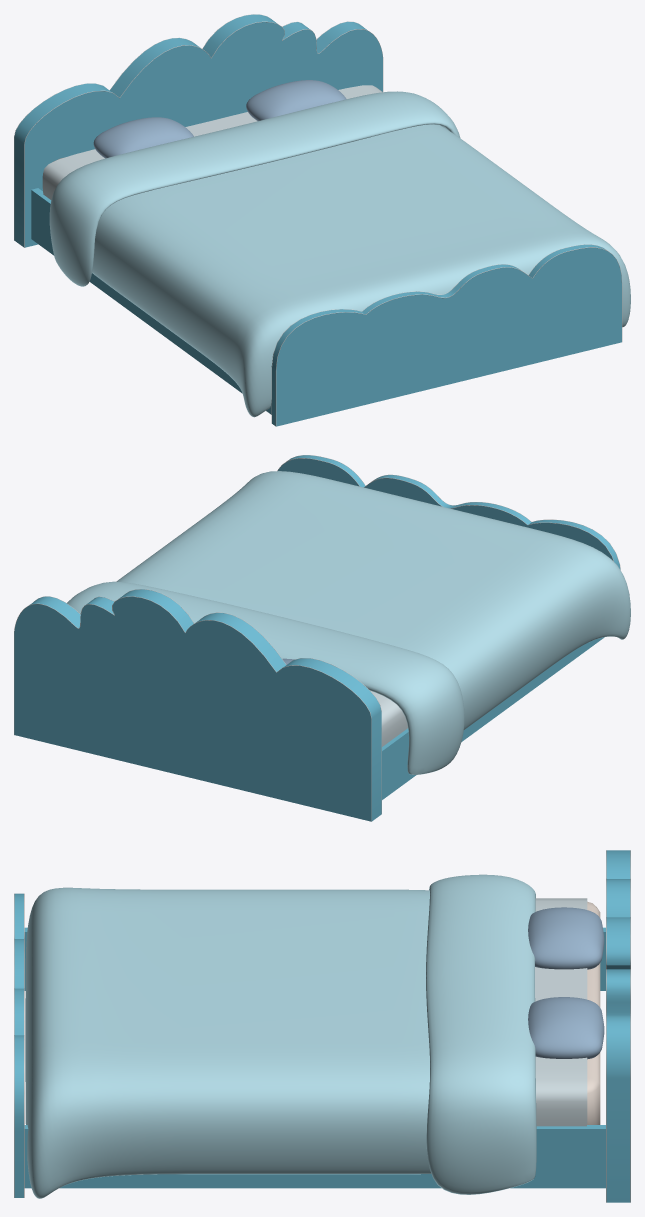
The picture shows the model from 3 angles, top to bottom: view 1: azimuth 30°, elevation 25°; view 2: azimuth 150°, elevation 25°; view 3: azimuth 270°, elevation 25°; orthographic projection. The views are drawn at different scales.
Visible parts, largest first — view 1: lettoCloud; view 2: lettoCloud; view 3: lettoCloud.
Boxes of the visible parts, left/top/right/bottom form: lettoCloud: left=14, top=14, right=630, bottom=426; lettoCloud: left=14, top=455, right=630, bottom=821; lettoCloud: left=14, top=850, right=630, bottom=1202.
Bounding box in the file's own units: 0.8709 × 0.3633 × 0.9981.
